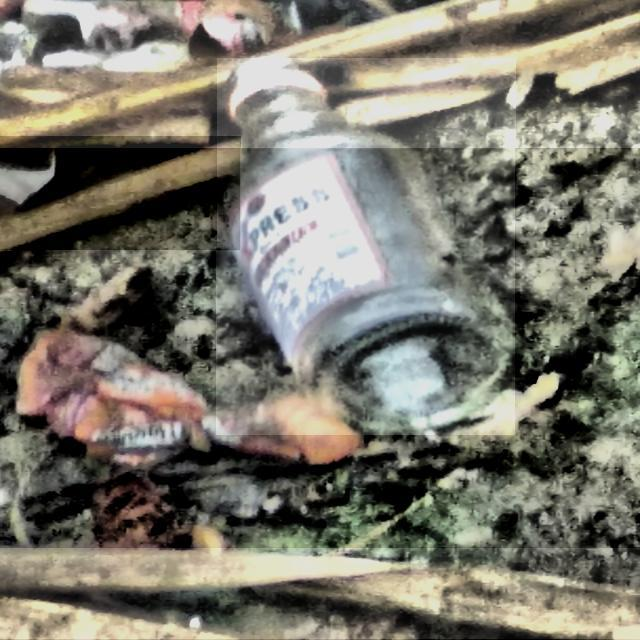anorganik: (217, 58, 515, 435)
organik: (0, 0, 640, 148), (0, 548, 640, 640), (0, 136, 240, 250)
